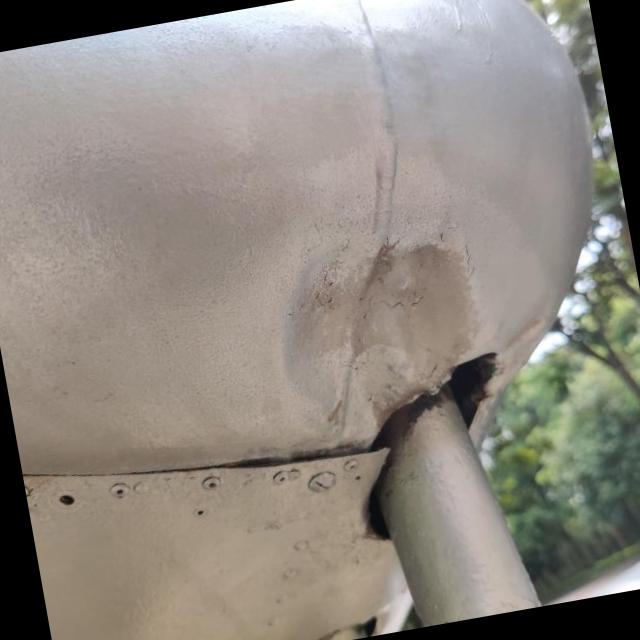Dent: (257, 228, 480, 453)
